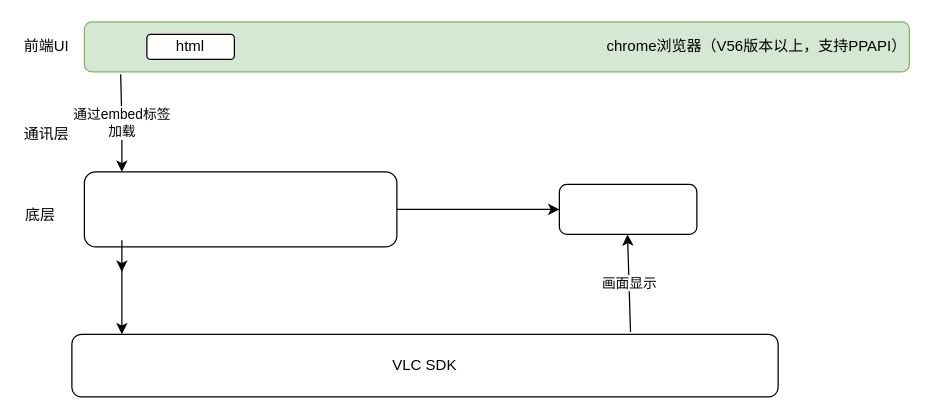
This 931x419 diagram has some shape labels left out. The centre of each missing label's shape, as x and y in pixels:
"plugin(SanyPlayerForChrome.dll 模块)" belongs at (240,209).
"在网页上创建window窗口" belongs at (627,208).
